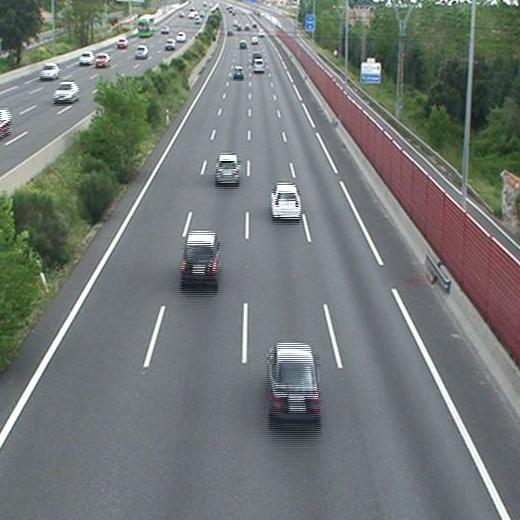car: (268, 344, 321, 416), (181, 232, 219, 282), (271, 183, 301, 219), (215, 154, 239, 182), (253, 58, 265, 71), (232, 66, 242, 78), (238, 41, 246, 48), (250, 36, 258, 43)
